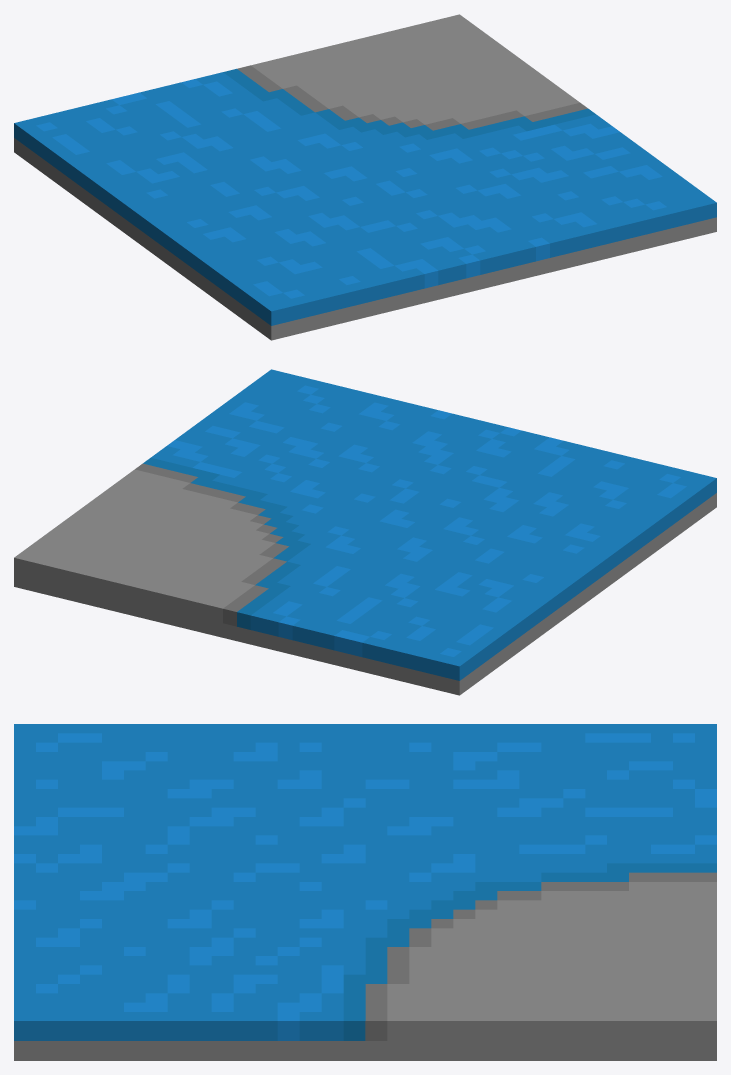
Rendered from city-water-rounded-edge-outer-3.gltf.
The picture shows the model from 3 angles, top to bottom: view 1: azimuth 30°, elevation 25°; view 2: azimuth 150°, elevation 25°; view 3: azimuth 270°, elevation 25°; orthographic projection. The views are drawn at different scales.
Parts seen in each view (by area): view 1: city-water-rounded-edge-outer-3_model; view 2: city-water-rounded-edge-outer-3_model; view 3: city-water-rounded-edge-outer-3_model.
Part boxes in pixels (x1,y1,x2,y2): city-water-rounded-edge-outer-3_model: (14,14,716,340); city-water-rounded-edge-outer-3_model: (14,369,716,695); city-water-rounded-edge-outer-3_model: (14,724,716,1060).
Bounding box in the file's own units: 3.2 × 0.2 × 3.2.
Materials: 1 (1 with a texture image).
